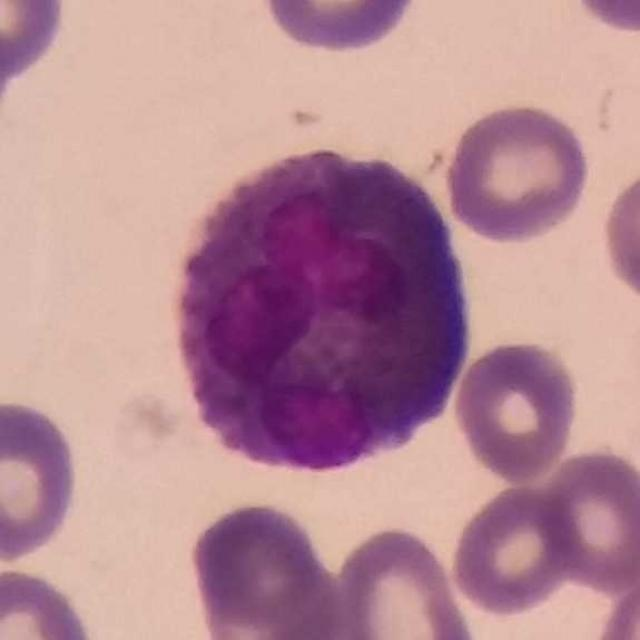Eosinophil: (157, 140, 478, 475)
RBC: (184, 496, 346, 640), (441, 99, 594, 246), (451, 335, 583, 485), (446, 480, 580, 620), (324, 522, 481, 640), (532, 444, 640, 592), (0, 392, 83, 566), (256, 0, 424, 56), (0, 562, 100, 640), (596, 156, 640, 309), (0, 1, 72, 84), (591, 564, 640, 640), (564, 0, 640, 38)
